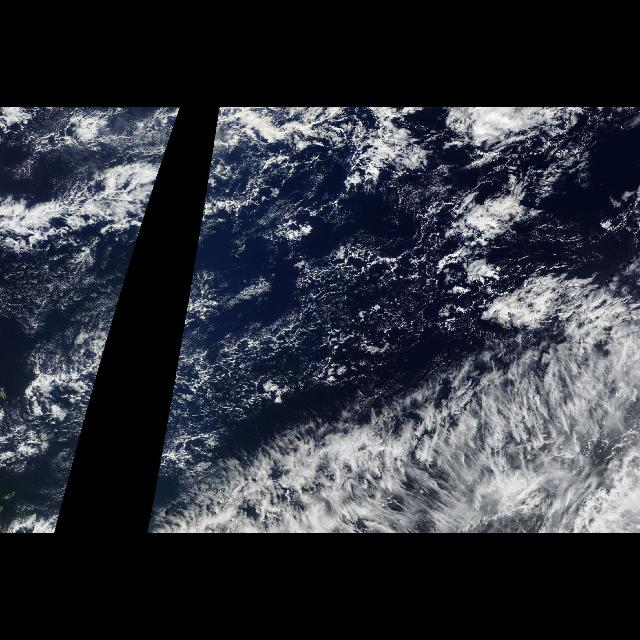Gravel: (178, 202, 432, 432)
